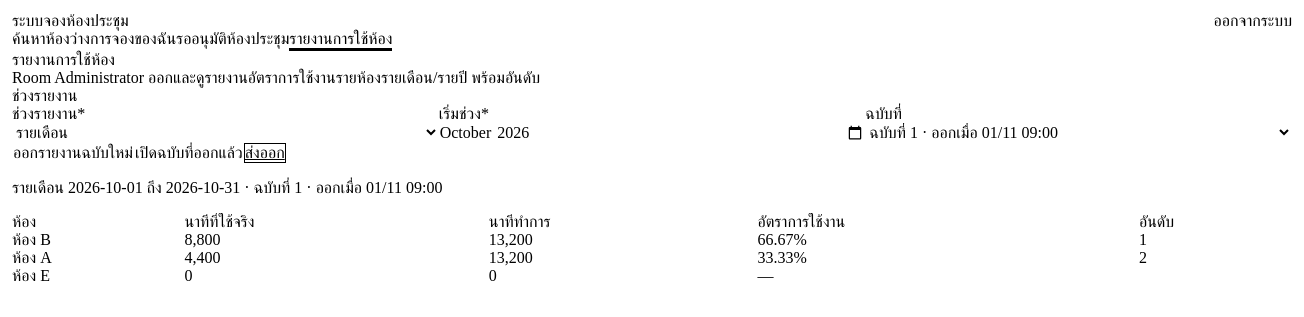
Scenario: FE-mrr-016 utilization report page (RPT-mrr-001) › error state — an issue that fails says so, makes nothing new, and leaves the report on screen
The width and height of the screenshot is (1304, 317).
Click the button with test id "rpt-mrr-001-issue" at (73, 153), box [12,143,134,163]
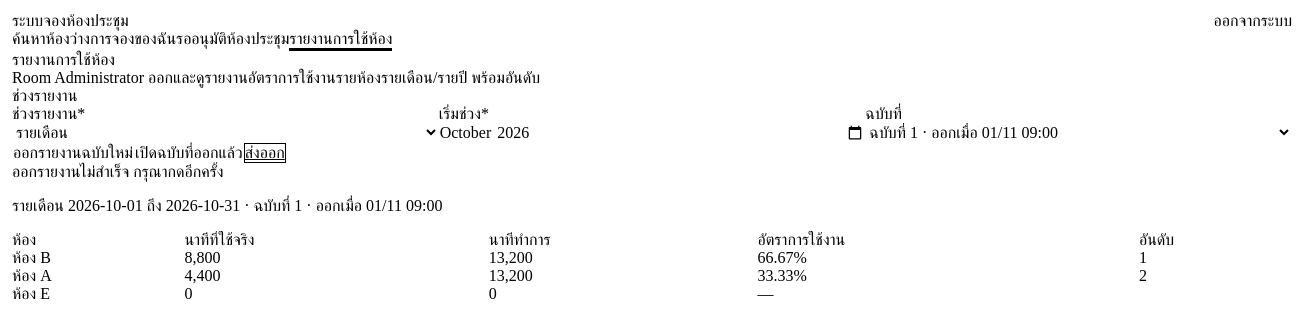
expect the dropdown with test id "rpt-mrr-001-ent-012-issue-no" shows "ฉบับที่ 1 · ออกเมื่อ 01/11 09:00": met, box [865,123,1292,142]
expect the message reads "ออกรายงานไม่สำเร็จ กรุณากดอีกครั้ง": met, box [12,163,224,180]
